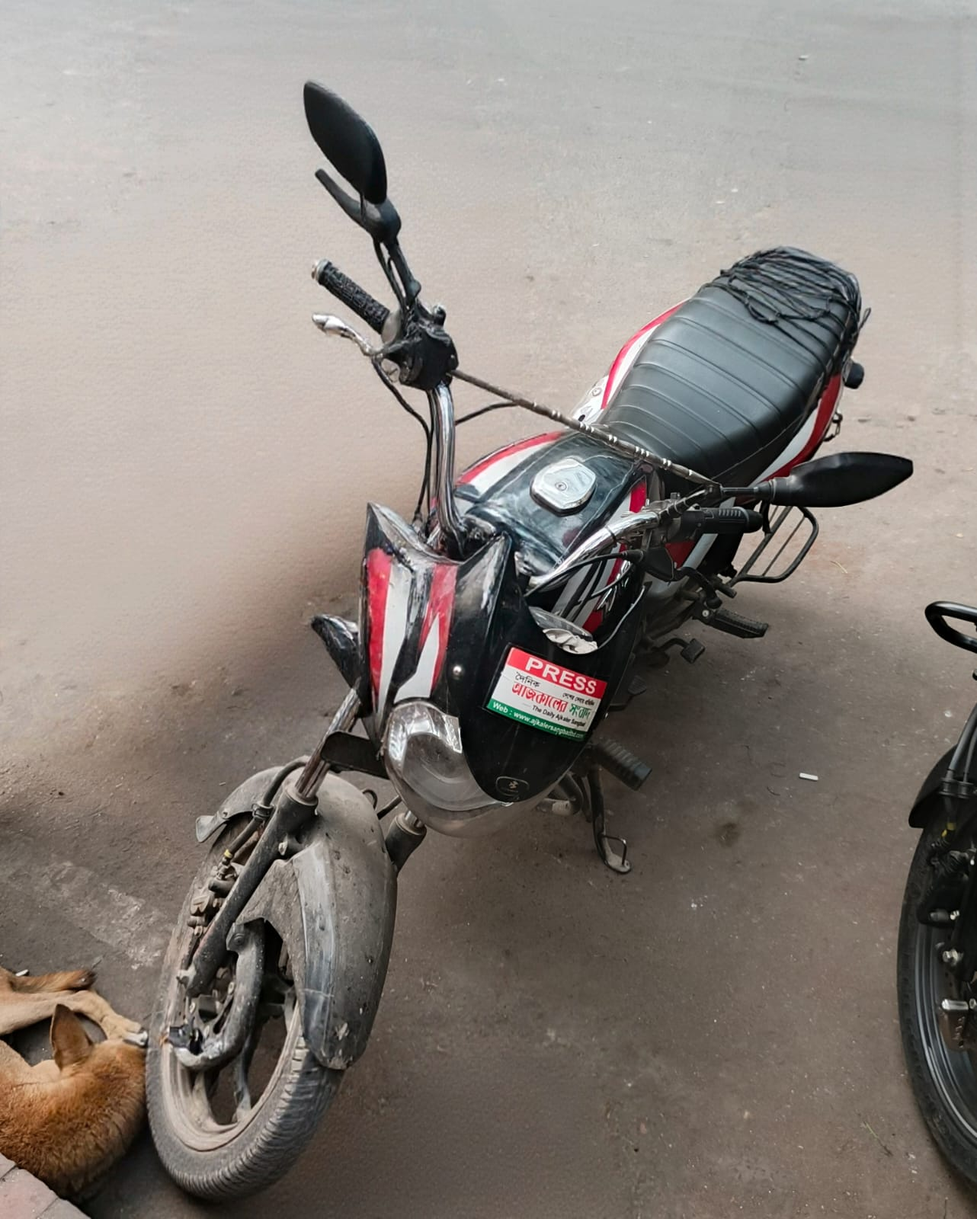Bikes: (155, 41, 892, 1195)
